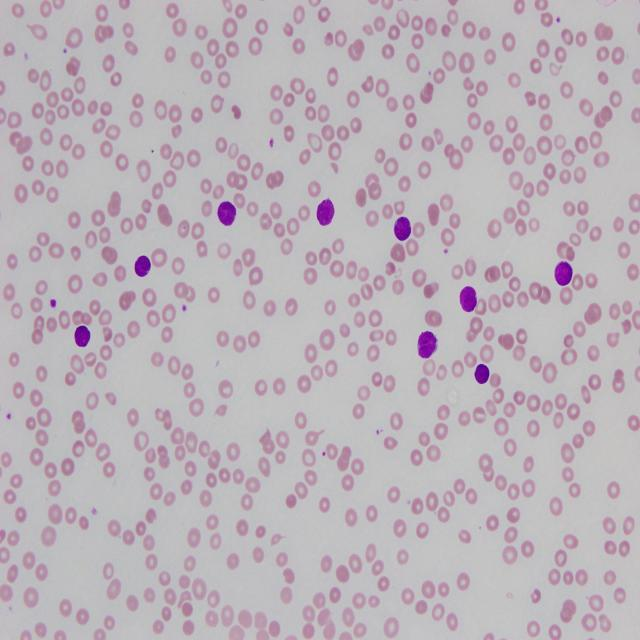cell: (418, 332, 438, 358), (316, 198, 335, 225), (555, 262, 572, 287), (218, 202, 236, 225), (394, 217, 411, 241), (460, 287, 476, 312), (135, 255, 151, 277), (74, 325, 90, 347), (475, 363, 489, 383)
